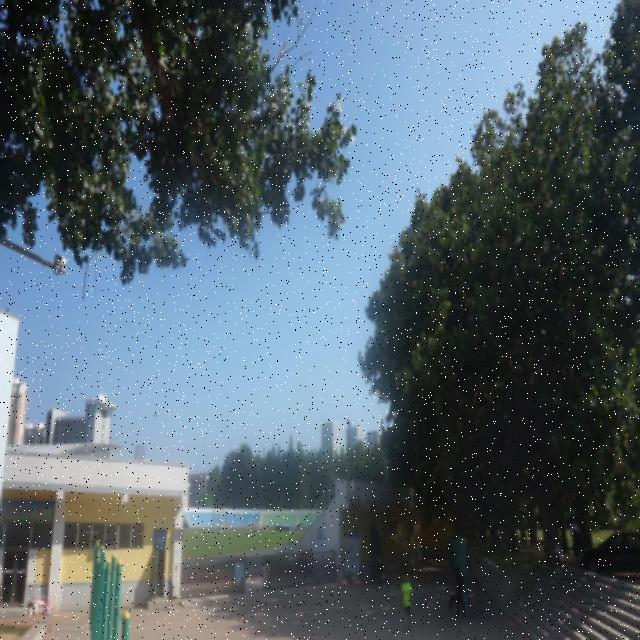UAV: (152, 412, 158, 416)
